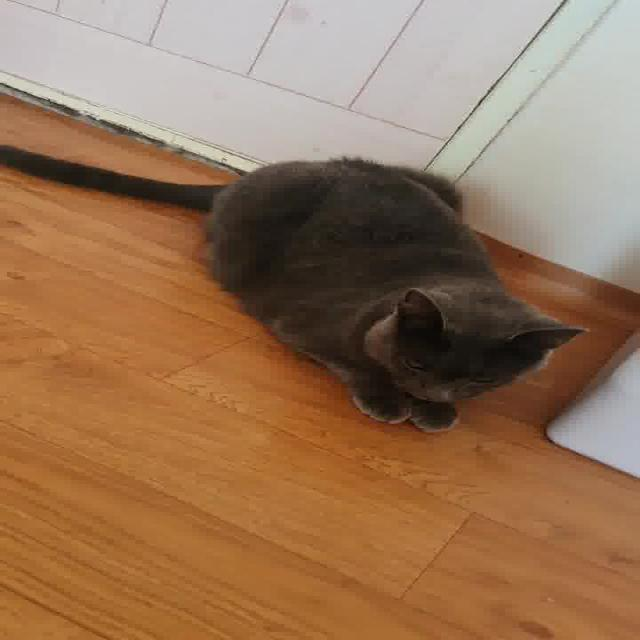cat: (3, 109, 610, 459)
